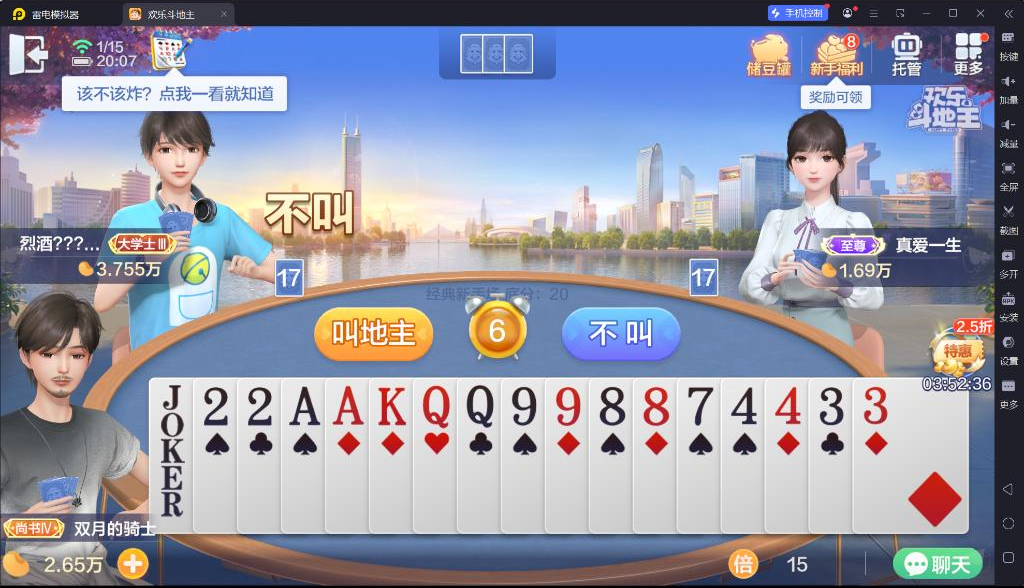A: (330, 383, 366, 428), (286, 384, 322, 427)
K: (373, 382, 411, 429)
Q: (462, 383, 498, 429), (418, 382, 453, 429)
eight: (639, 384, 671, 427), (597, 383, 627, 427)
four: (772, 384, 804, 428), (728, 384, 760, 427)
joker: (155, 383, 190, 467)
nine: (550, 383, 581, 429), (508, 383, 538, 427)
seven: (685, 383, 716, 429)
three: (815, 385, 846, 427), (861, 385, 891, 426)
two: (200, 382, 233, 429), (244, 383, 275, 429)
